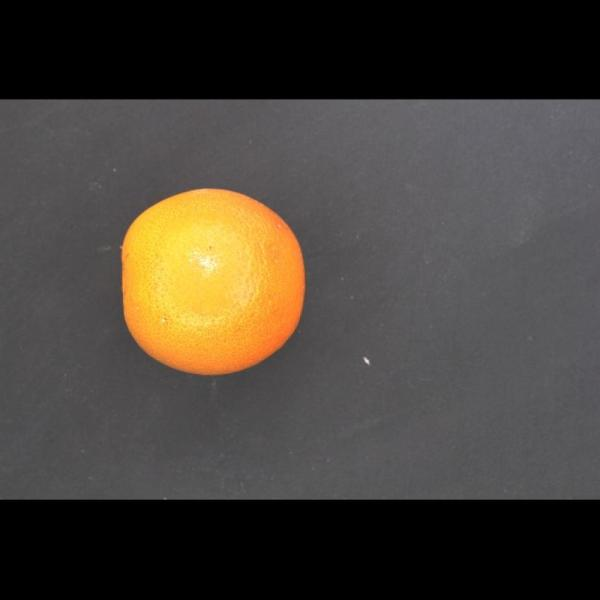Moho verde: (104, 186, 326, 384)
